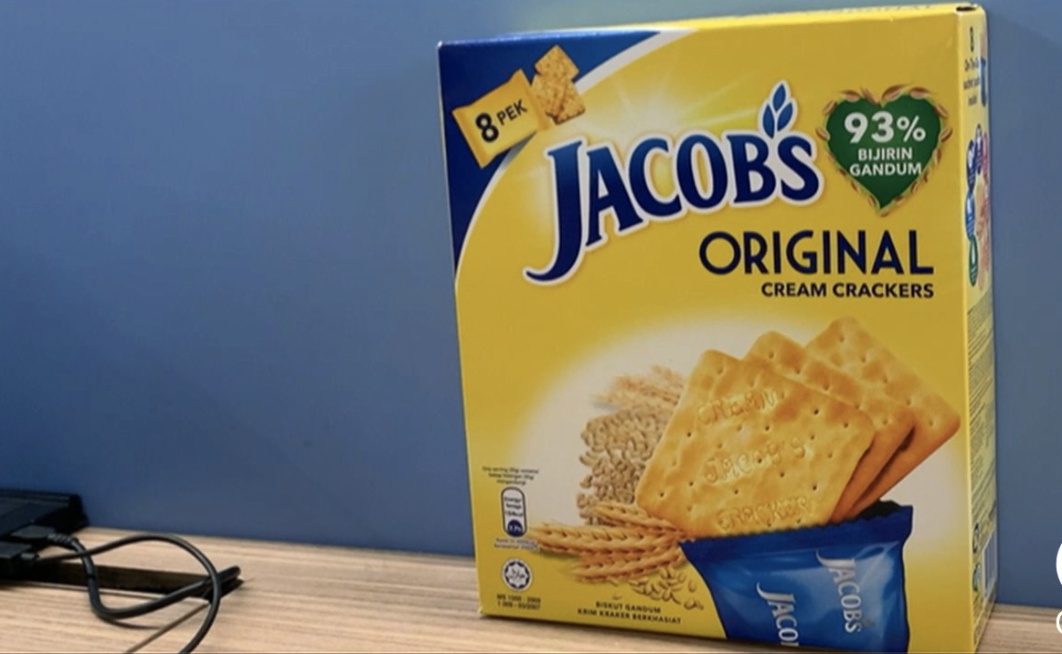crackers_200g-299g: (466, 48, 959, 622)
